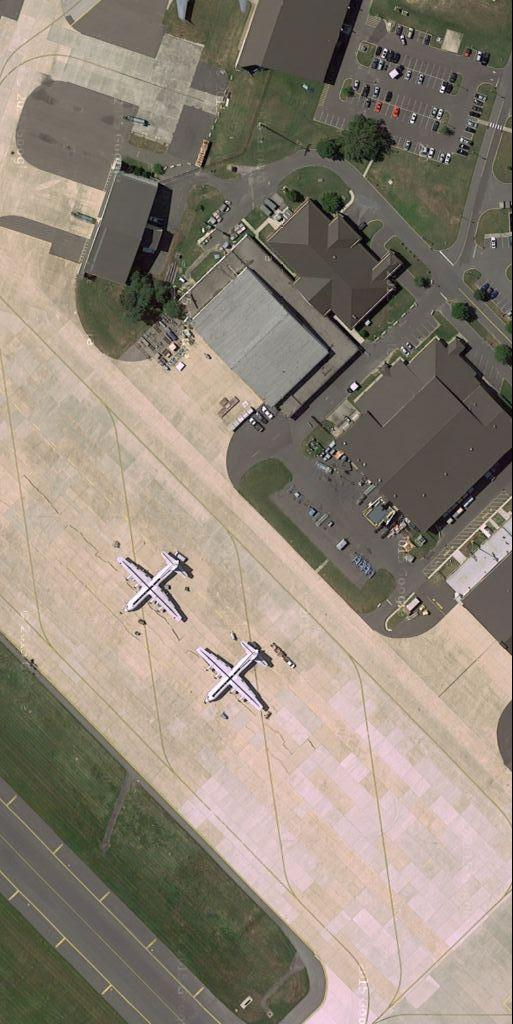C-130: (117, 544, 195, 625), (197, 632, 275, 713)
